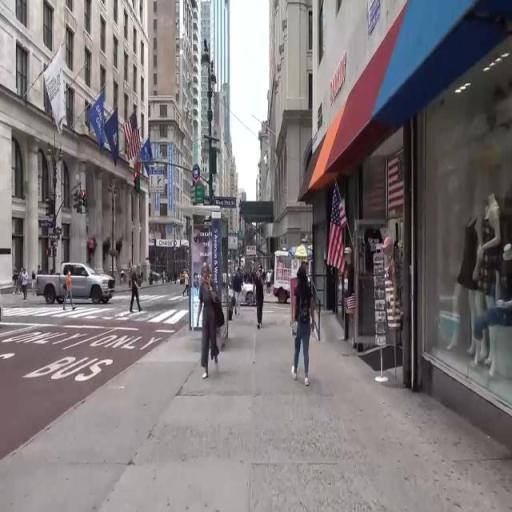person: (198, 265, 223, 382), (295, 268, 316, 389), (256, 267, 267, 335), (235, 266, 246, 324), (132, 267, 143, 318), (64, 273, 77, 312), (22, 268, 30, 305), (13, 264, 19, 299), (268, 268, 274, 296), (185, 271, 190, 298), (248, 265, 254, 286), (32, 268, 36, 297), (20, 265, 23, 290), (39, 262, 42, 275)
